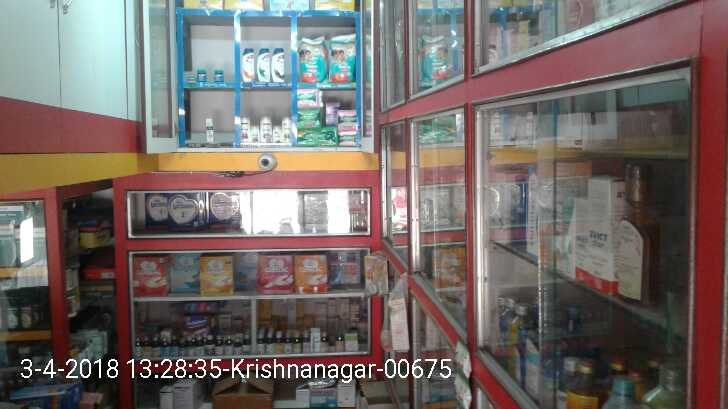vicks: (194, 64, 208, 84), (213, 68, 226, 87)
